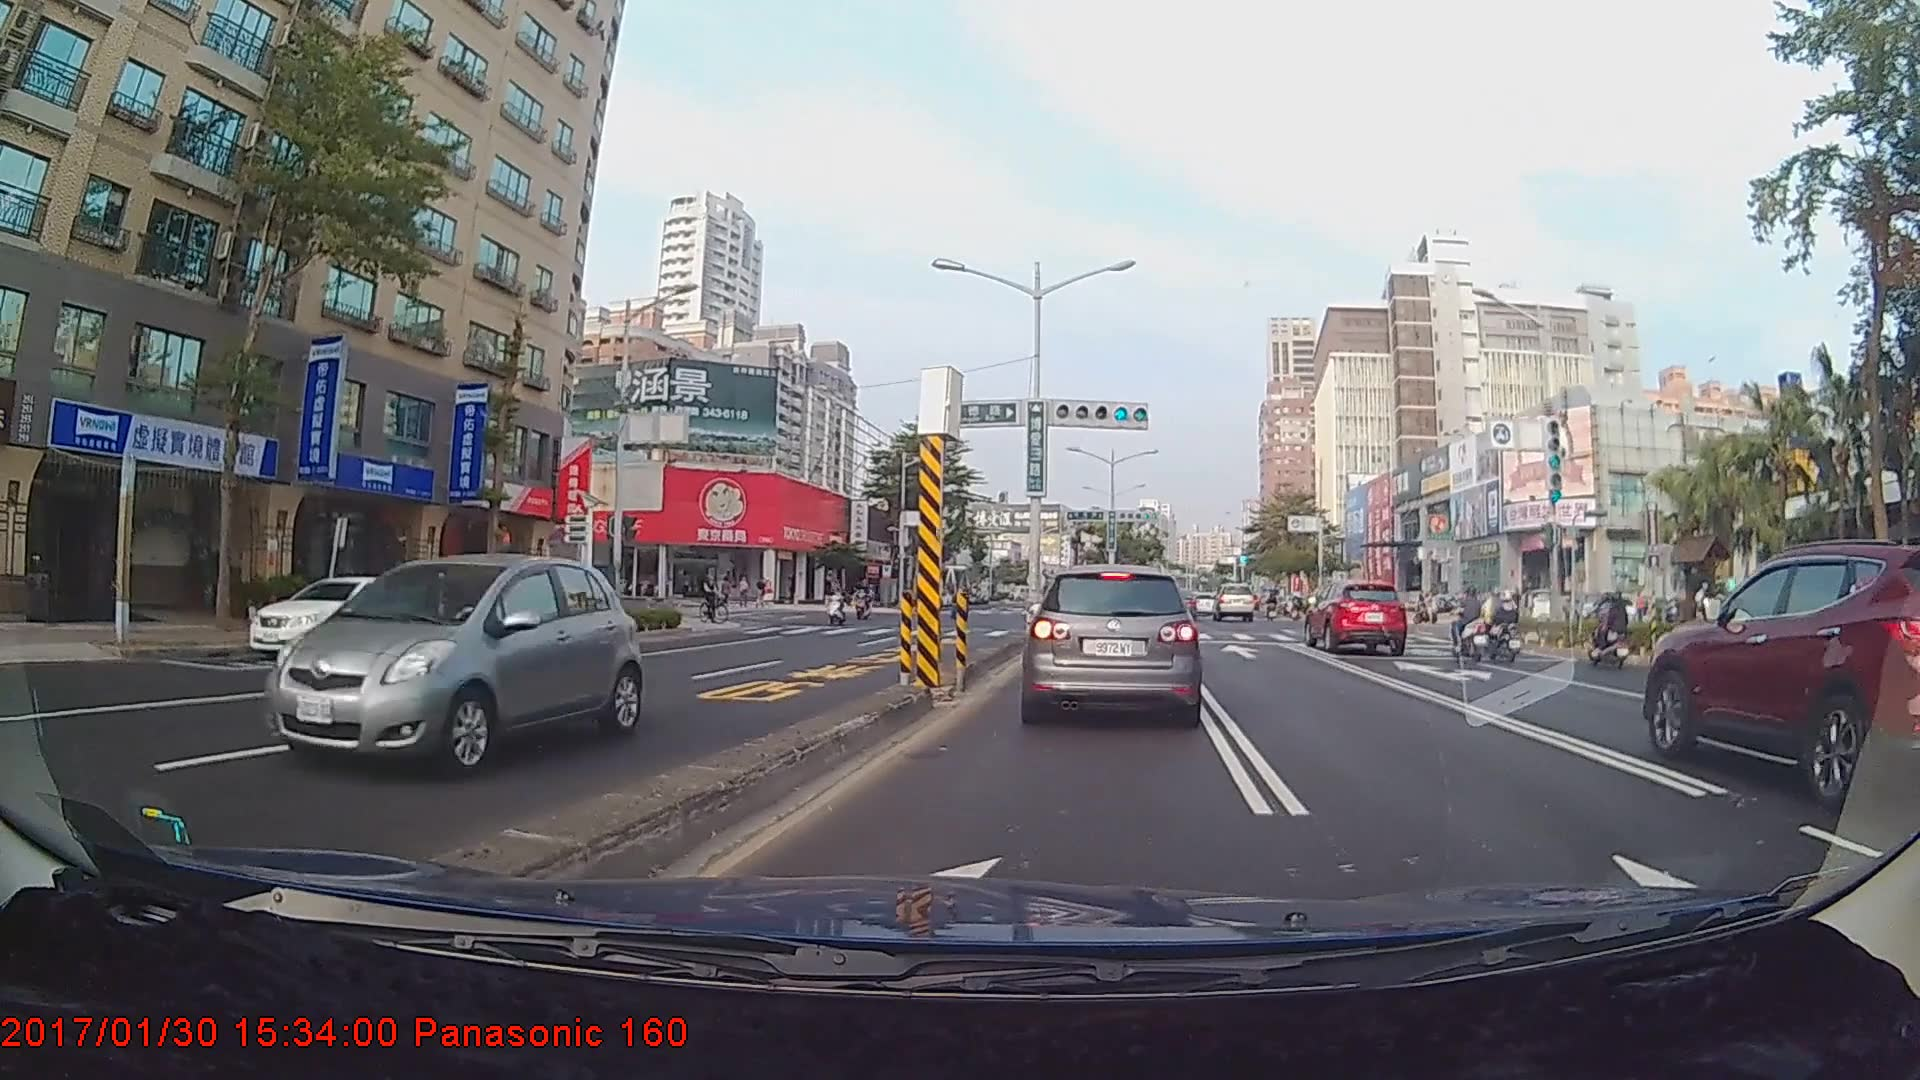rider: (1443, 584, 1498, 663), (1586, 590, 1640, 670), (1478, 585, 1530, 667), (687, 566, 727, 621)
vehicle: (262, 549, 643, 774), (1641, 535, 1917, 812), (1028, 559, 1199, 722), (248, 567, 448, 656), (1303, 577, 1410, 654), (1212, 582, 1255, 622)
